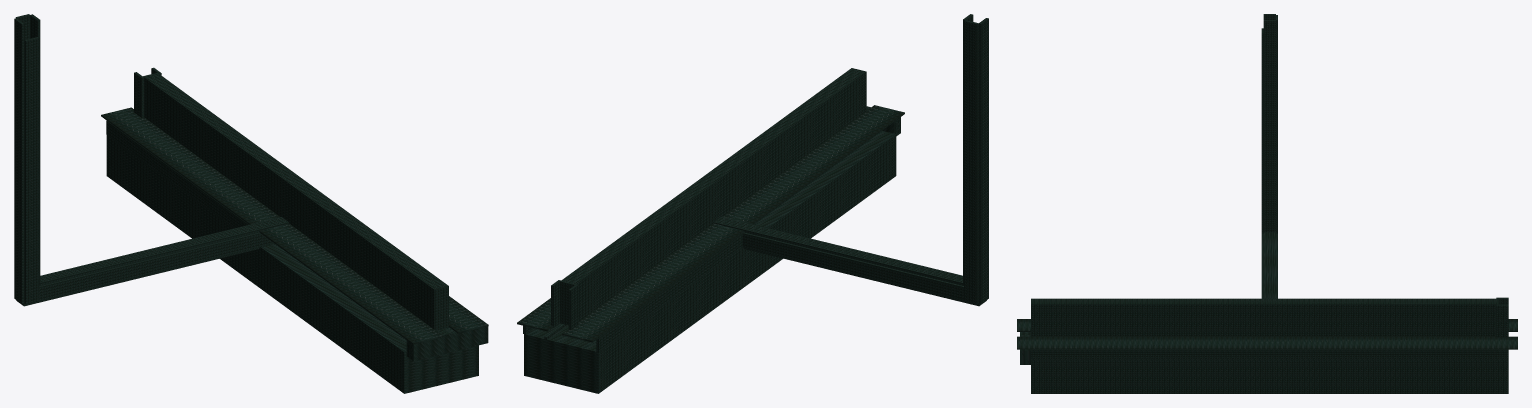
Rendered from sewer.obj.
3 renders of one model, left to right at view 1: azimuth 30°, elevation 25°; view 2: azimuth 150°, elevation 25°; view 3: azimuth 270°, elevation 25°, orthographic. The views are drawn at different scales.
Parts seen in each view (by area): view 1: Cube (171), Cube (175), Cube (185), Cube (180), Cube (176), Cube (182), Cube (179), Cube (172), Cube (186), Cube (184), Cube (183), Cube (178) (+1 smaller); view 2: Cube (175), Cube (171), Cube (185), Cube (181), Cube (174), Cube (182), Cube (179), Cube (172), Cube (184), Cube (178), Cube; view 3: Cube (171), Cube (175), Cube (184), Cube (173), Cube (183), Cube (179), Cube (180), Cube (181), Cube (170).
Boxes of the visible parts, x1,y1,x2,y2 form: Cube (171): (143, 72, 448, 330); Cube (175): (106, 135, 478, 393); Cube (185): (101, 107, 443, 344); Cube (180): (24, 37, 39, 304); Cube (176): (39, 232, 274, 301); Cube (182): (14, 18, 24, 303); Cube (179): (39, 217, 289, 285); Cube (172): (106, 120, 248, 228); Cube (186): (406, 326, 488, 361); Cube (184): (449, 296, 488, 333); Cube (183): (30, 14, 40, 283); Cube (178): (16, 247, 259, 306); Cube (175): (524, 131, 896, 393); Cube (171): (560, 68, 866, 325); Cube (185): (562, 105, 904, 342); Cube (181): (964, 20, 978, 304); Cube (174): (742, 232, 963, 300); Cube (182): (978, 18, 988, 303); Cube (179): (713, 217, 963, 285); Cube (172): (596, 232, 743, 352); Cube (184): (517, 298, 553, 331); Cube (178): (743, 247, 986, 306); Cube: (568, 284, 578, 329); Cube (171): (1031, 298, 1498, 336); Cube (175): (1031, 361, 1508, 393); Cube (184): (1017, 336, 1517, 349); Cube (173): (1031, 349, 1508, 360); Cube (183): (1263, 20, 1275, 232); Cube (179): (1263, 232, 1275, 298); Cube (180): (1261, 28, 1263, 233); Cube (181): (1275, 15, 1277, 233); Cube (170): (1496, 304, 1508, 337).
Bounding box in the file's own units: 119 × 116 × 204.
